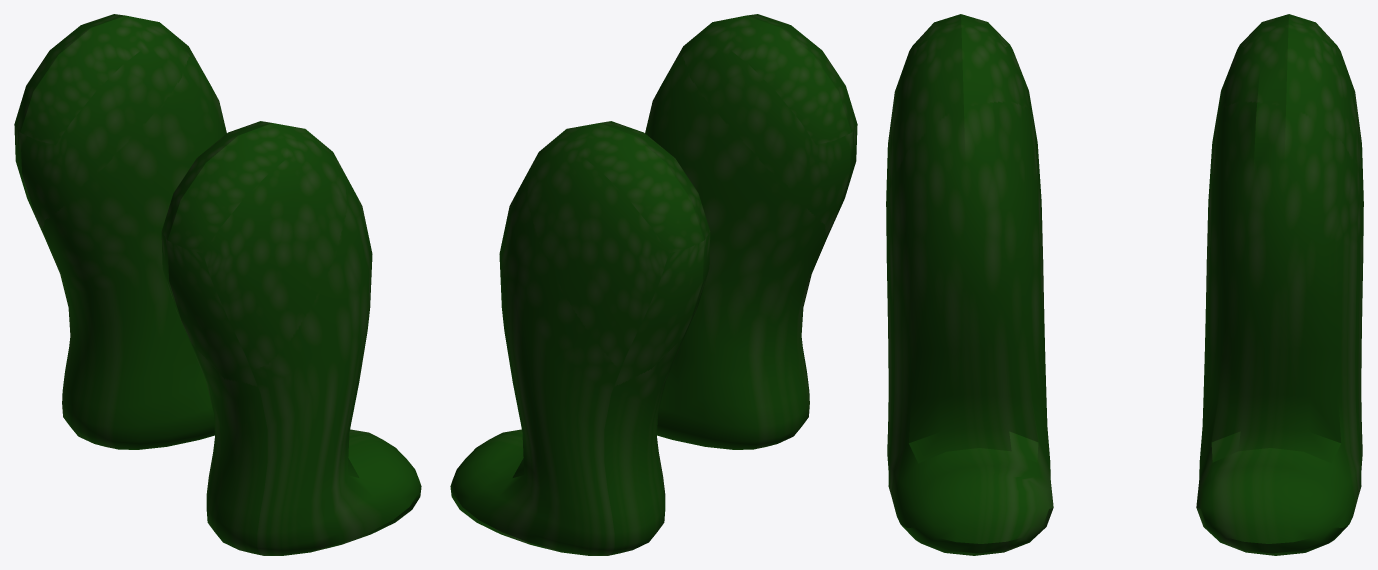
The model's file is mainbacak.fbx.
3 renders of one model, left to right at view 1: azimuth 30°, elevation 25°; view 2: azimuth 150°, elevation 25°; view 3: azimuth 270°, elevation 25°, orthographic. The views are drawn at different scales.
Visible parts, largest first — view 1: Cube.003; view 2: Cube.003; view 3: Cube.003.
Boxes of the visible parts, <box> form: Cube.003: <box>14,14,421,555</box>; Cube.003: <box>450,14,857,555</box>; Cube.003: <box>886,14,1363,555</box>.
Bounding box in the file's own units: 76.82 × 123 × 114.
1 material, 1 textured.
